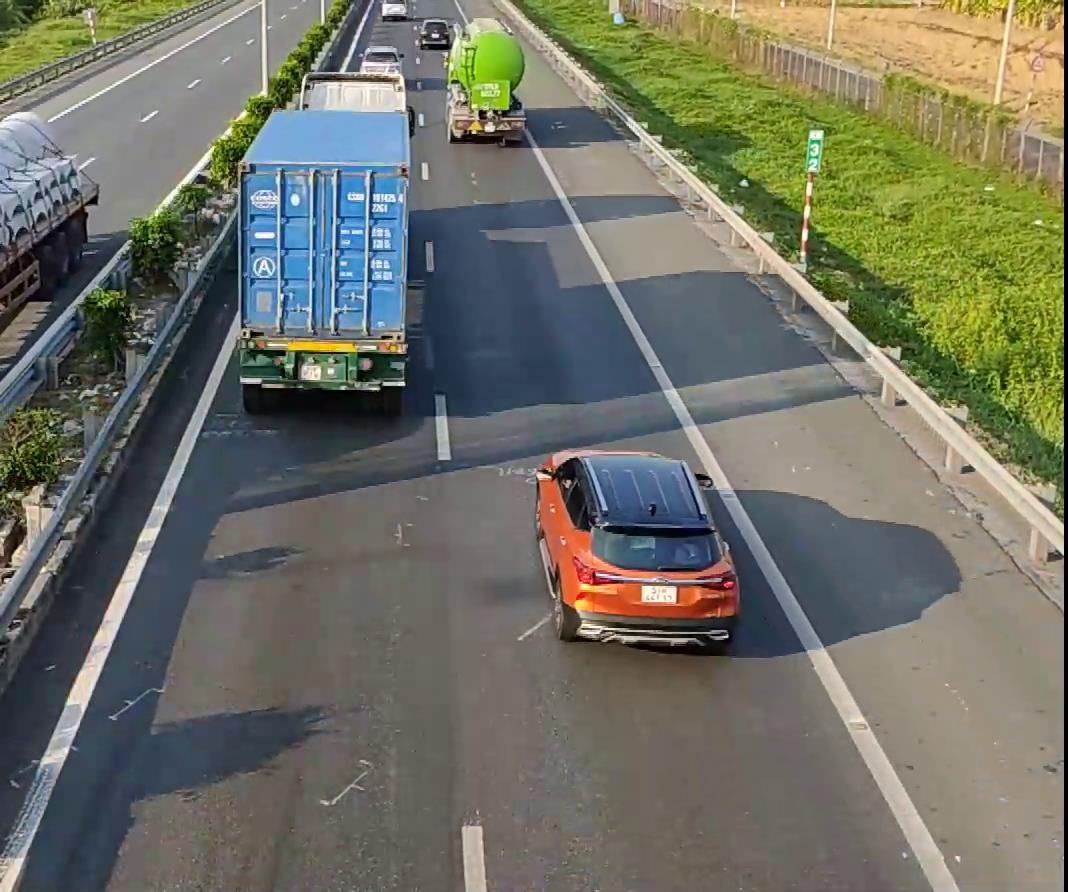car: (532, 447, 740, 648)
container: (231, 68, 416, 404), (443, 16, 526, 142)
